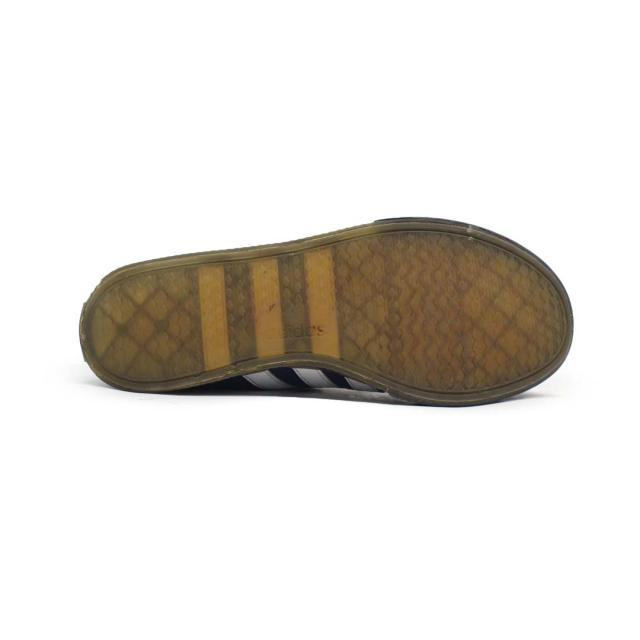outersole: (83, 216, 574, 406)
